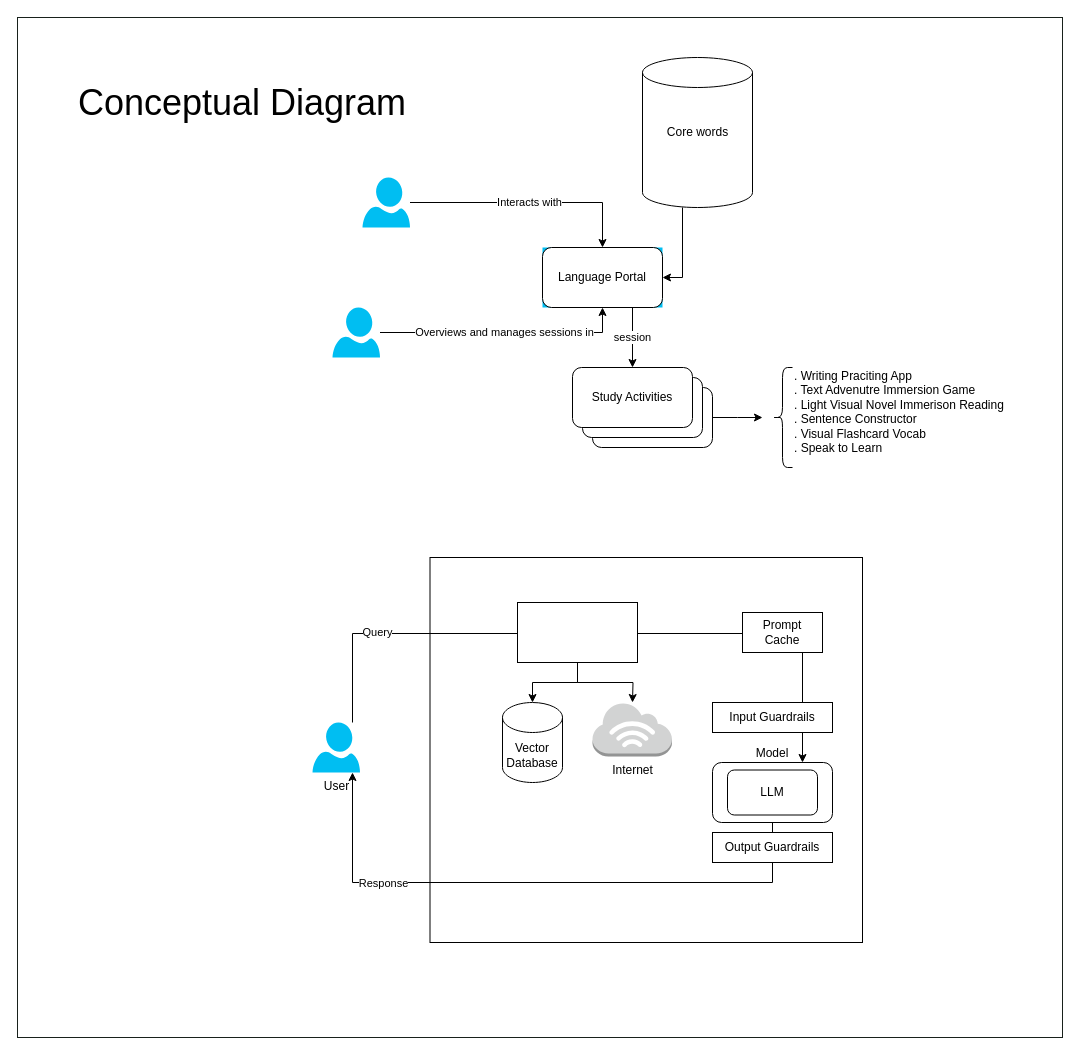
This 1080x1055 diagram has some shape labels left out. Here are the shapes that lost their labels. From the top down, the box of each, then its label:
(642, 56, 752, 208): Database
(362, 177, 410, 227): Student
(332, 307, 380, 357): Teacher
(516, 602, 638, 662): RAG
(429, 556, 862, 942): Sentence Constructor
